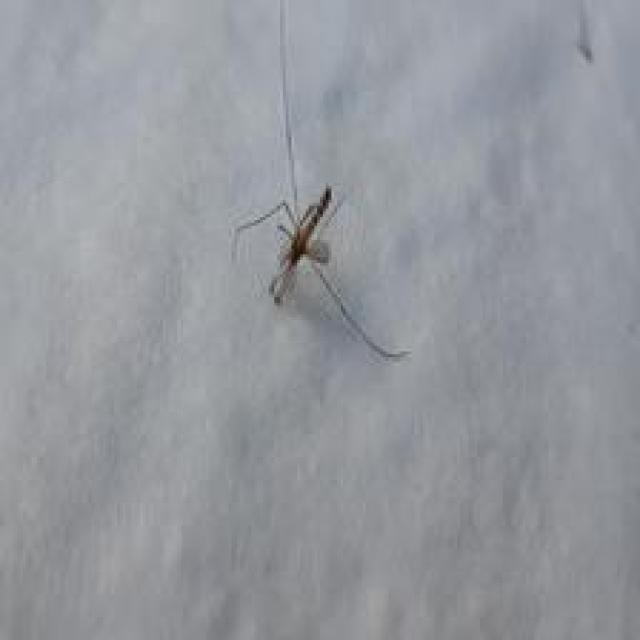Culex: (228, 183, 412, 363)
